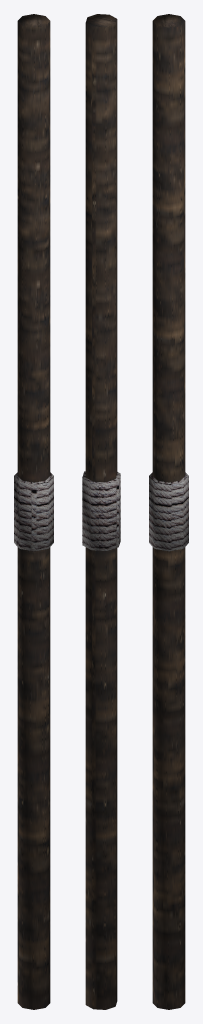
The model's file is Stick3.fbx.
The picture shows the model from 3 angles, left to right: view 1: azimuth 90°, elevation 25°; view 2: azimuth 150°, elevation 25°; view 3: azimuth 270°, elevation 25°; orthographic projection.
Parts seen in each view (by area): view 1: Cylinder.010; view 2: Cylinder.010; view 3: Cylinder.010.
Part boxes in pixels (bbox=[...]): Cylinder.010: bbox=[14, 14, 53, 1009]; Cylinder.010: bbox=[82, 14, 120, 1009]; Cylinder.010: bbox=[149, 14, 188, 1009].
Size of the model in its own units: 26.69 by 723 by 26.69.
